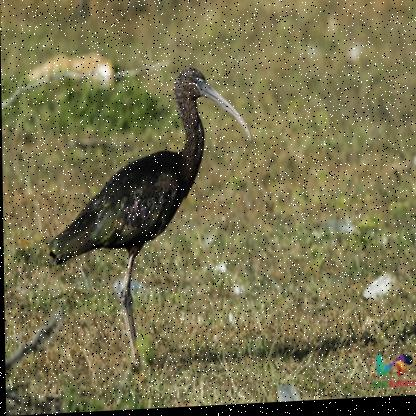Burung: (47, 66, 257, 385)
